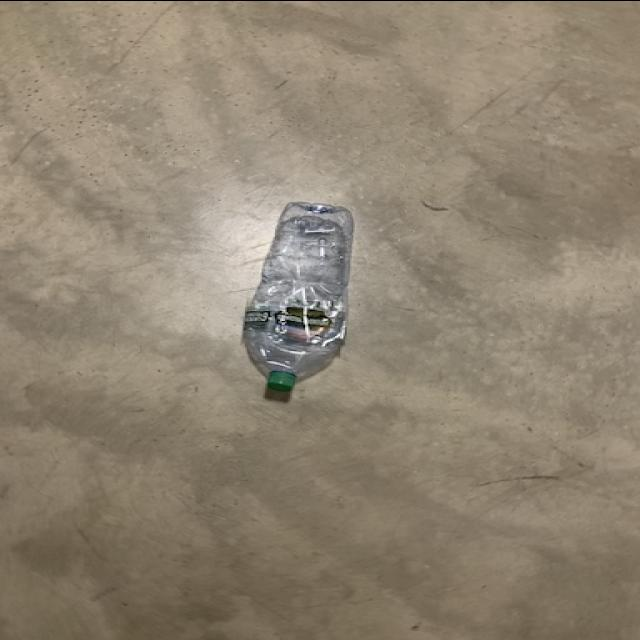PET: (240, 198, 356, 396)
